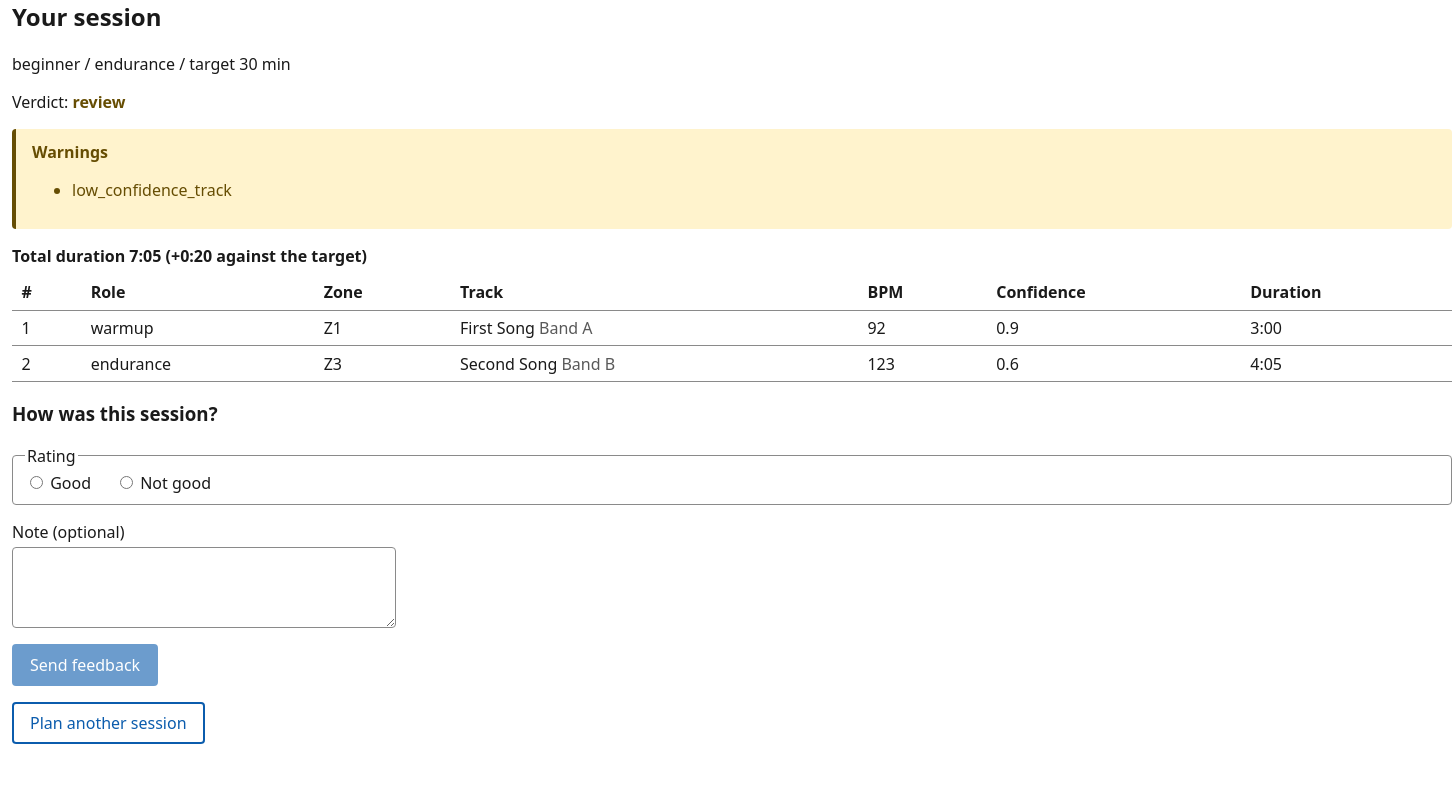
Test: SessionView › shows the reasons when the feedback is refused
The width and height of the screenshot is (1452, 790).
Click the radio button labelled "Not good": (126, 483) [120,476,133,489]
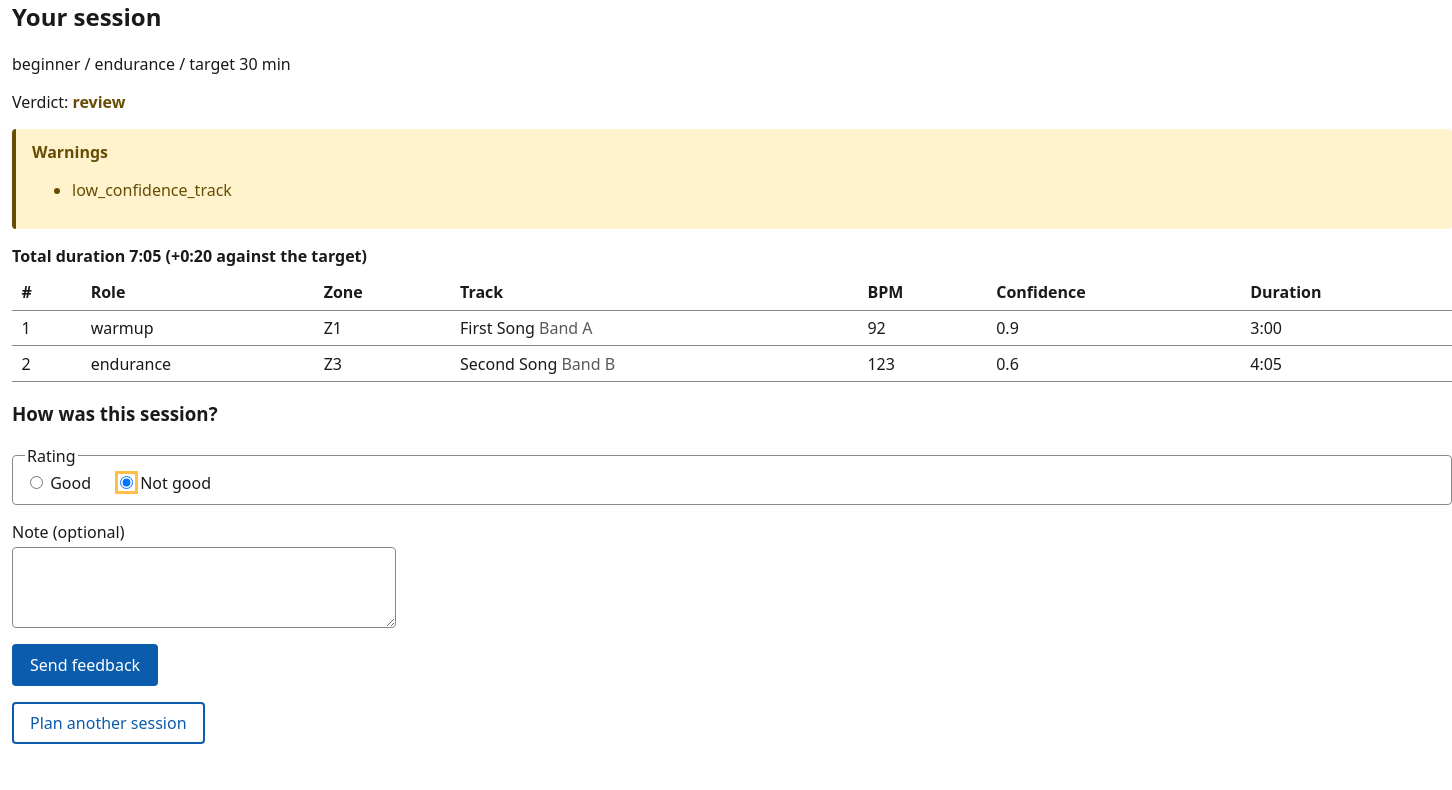
Click the button "Send feedback": (85, 665) [12,644,158,686]
(page scrolled)
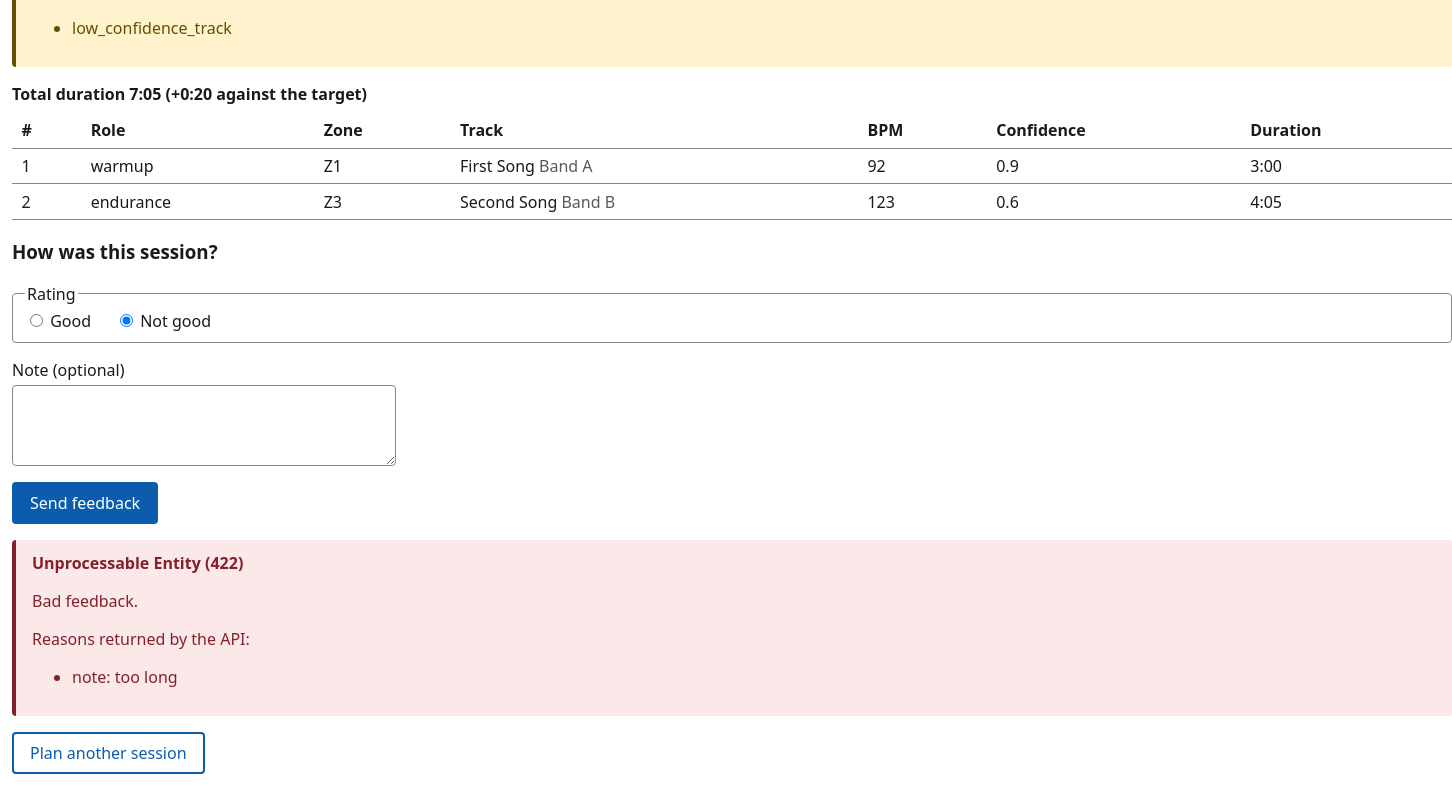
Check: the message shows "note: too long", box [72,666,178,688]
